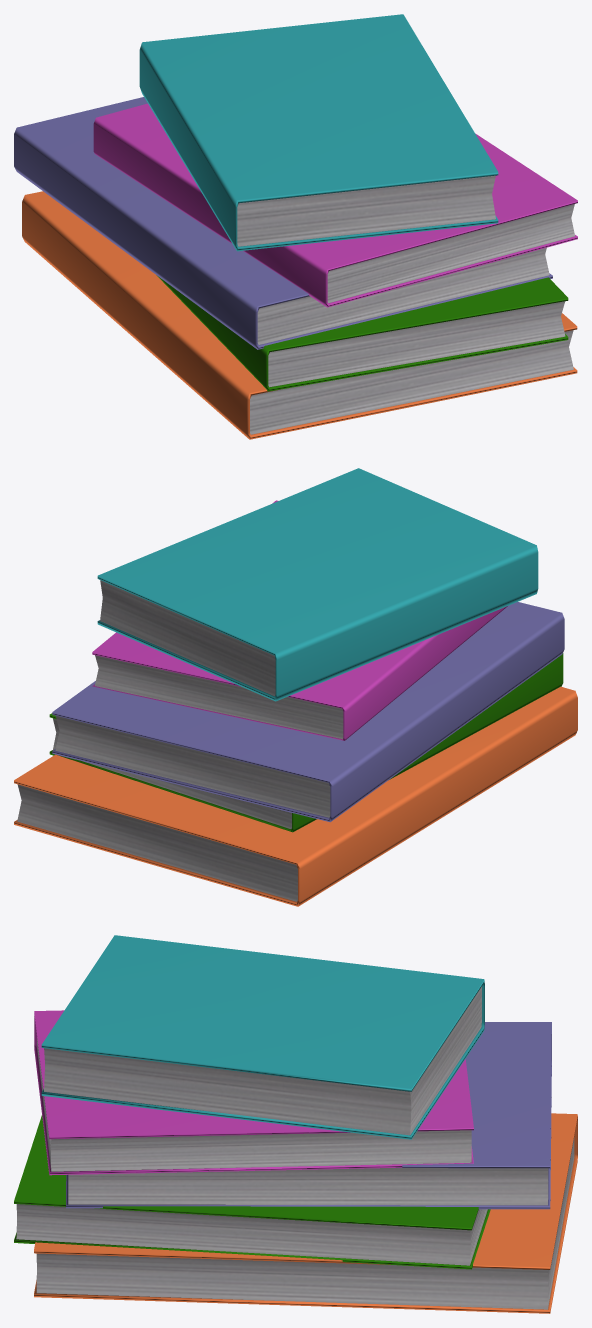
Rendered from Books_2.fbx.
3 views of the same model, one above another, from view 1: azimuth 30°, elevation 25°; view 2: azimuth 150°, elevation 25°; view 3: azimuth 270°, elevation 25° (orthographic). The views are drawn at different scales.
Parts seen in each view (by area): view 1: Books_2; view 2: Books_2; view 3: Books_2.
Boxes of the visible parts, x1=… form: Books_2: x1=14, y1=14, x2=577, y2=439; Books_2: x1=14, y1=468, x2=577, y2=906; Books_2: x1=14, y1=935, x2=577, y2=1313.
Bounding box in the file's own units: 866 × 509 × 1203.
